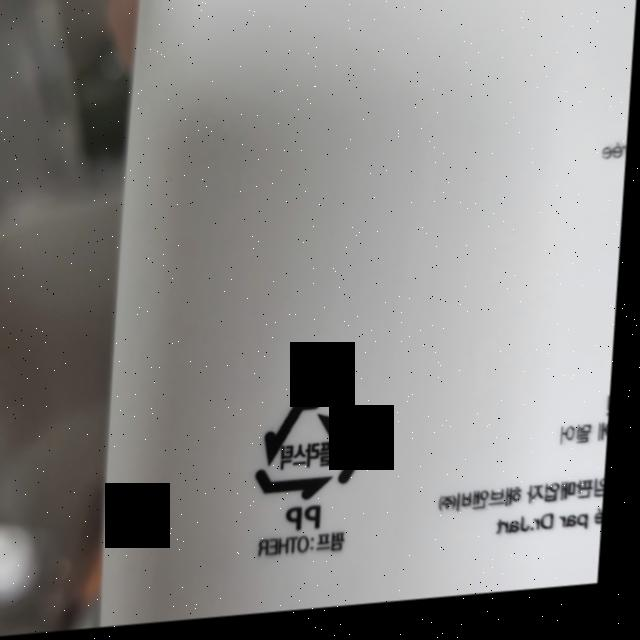Plastic: (255, 394, 377, 510)
